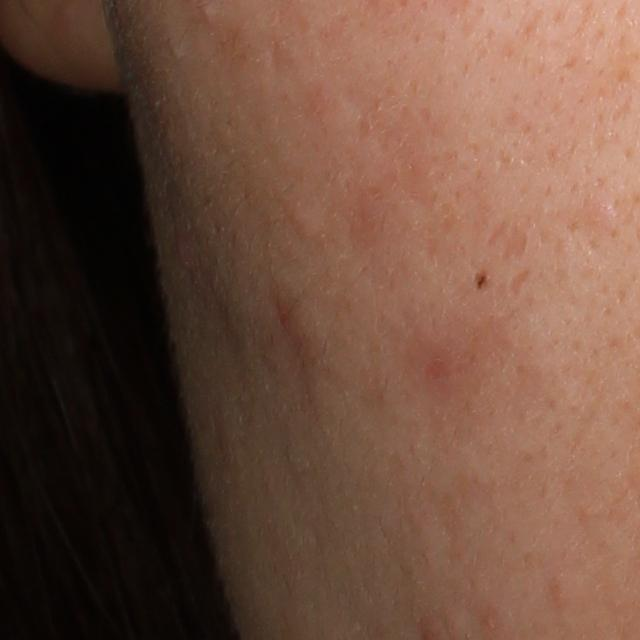atrophic_scar: (499, 225, 529, 263), (507, 266, 533, 299), (485, 221, 509, 249)
comedo: (288, 206, 319, 239)
nevus: (472, 269, 492, 293)
